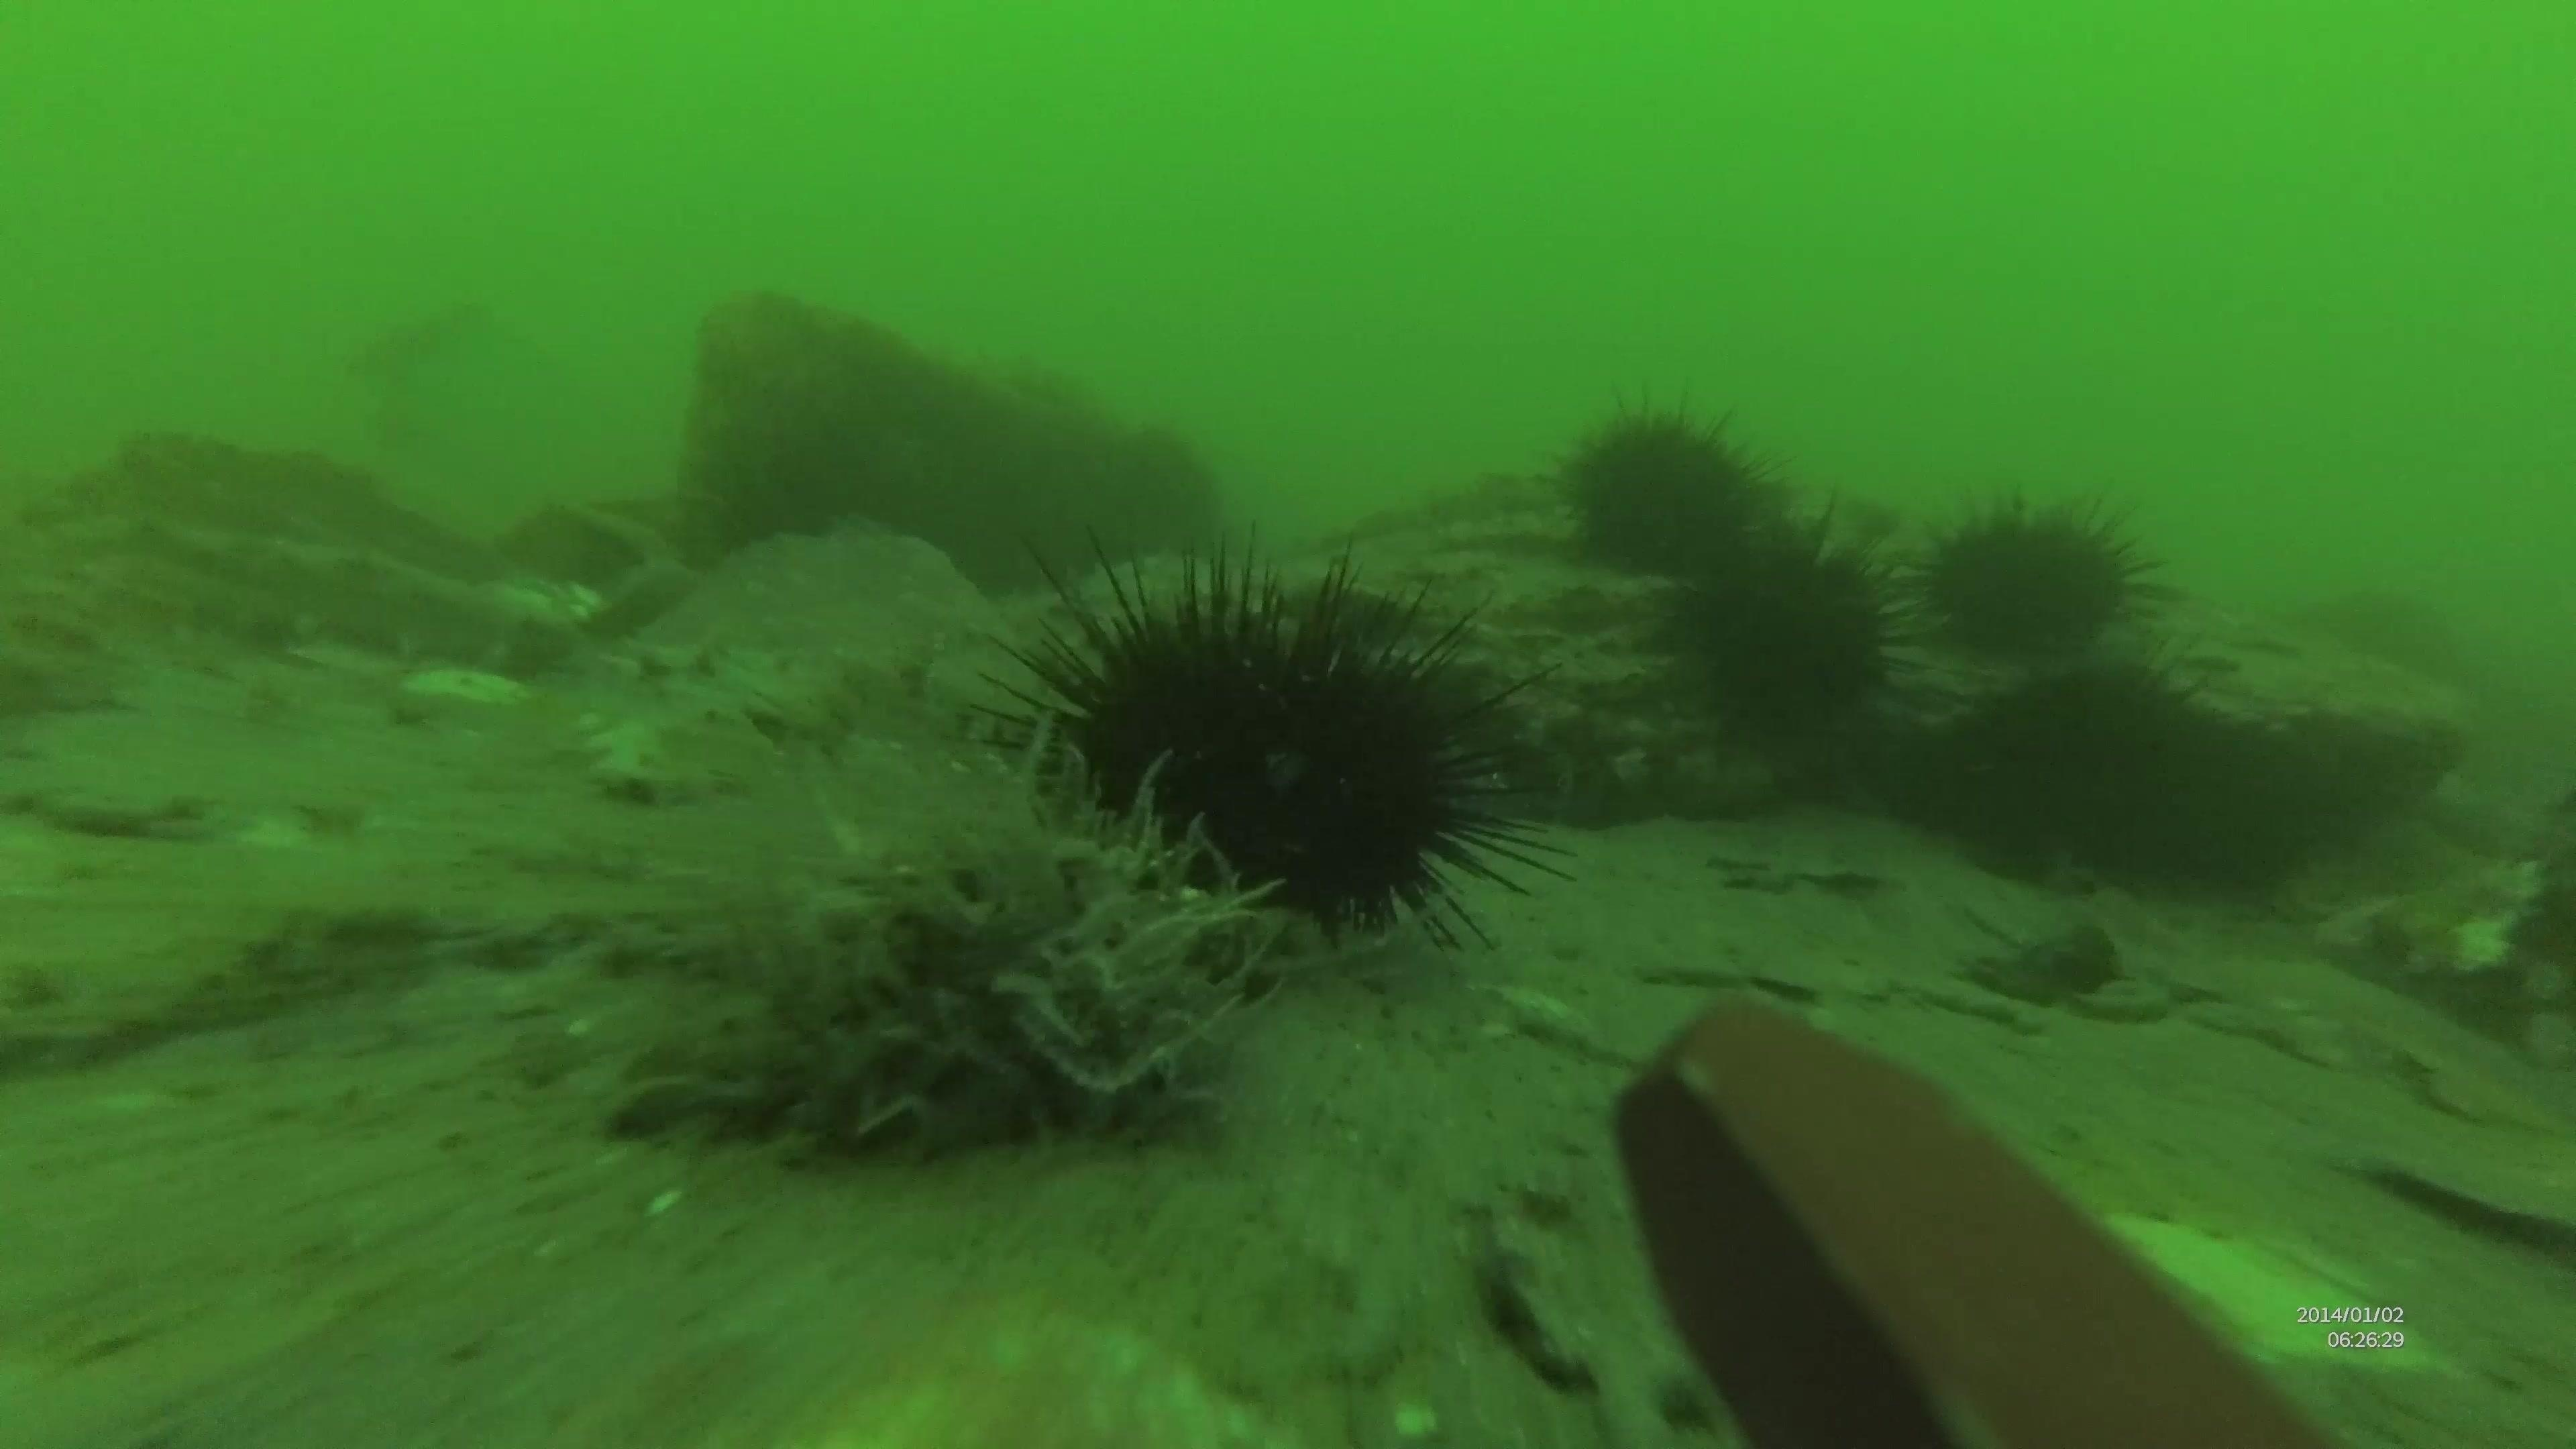echinus: (959, 534, 1560, 957), (1658, 499, 1920, 757), (1907, 479, 2166, 674), (1546, 387, 1790, 587)
holothurian: (134, 525, 589, 679)
